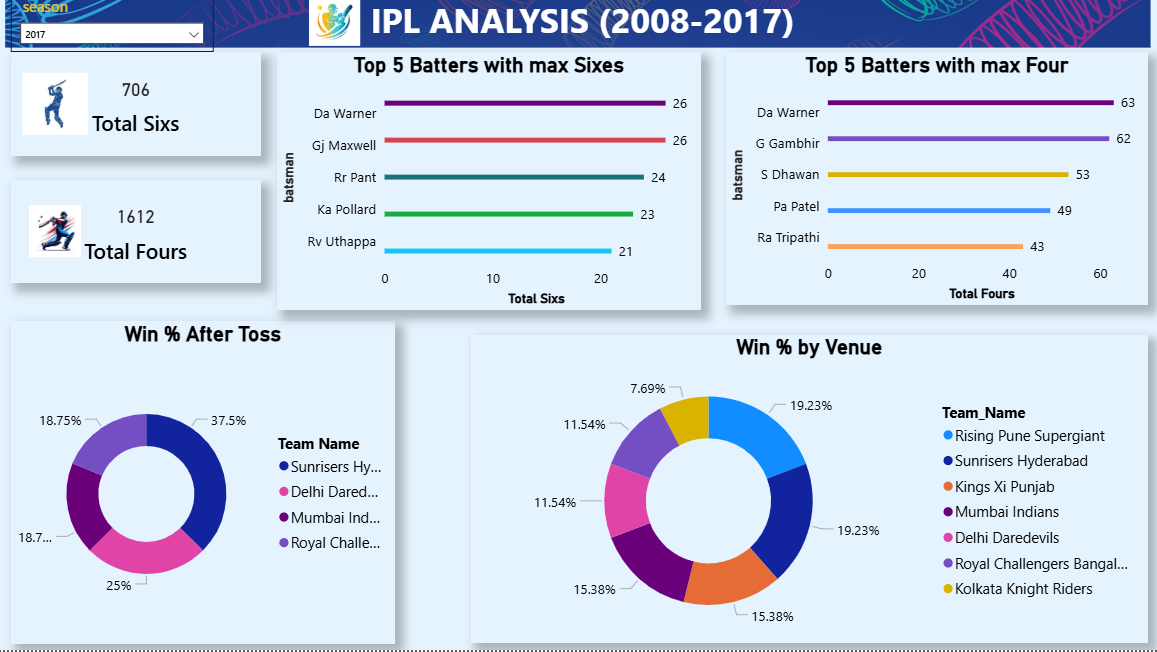

Layout of this report page (visuals, bound fields, positions):
{"tool":"powerbi","page":{"name":"Page 2","canvas":[1280,720],"ordinal":1},"visuals":[{"type":"image","box":[0,0,1280.3,65.9],"z":0},{"type":"donutChart","title":"Win % After Toss","fields":{"Y":["matches.Win % After Toss"],"Category":["Teams.Team_Name"]},"box":[20.6,359.5,419.9,352.7],"z":1000},{"type":"clusteredBarChart","title":"Top 5 Batters with max Sixes","fields":{"Y":["deliveries - deliveries csv.Total Sixs"],"Category":["deliveries - deliveries csv.batsman"],"Series":["deliveries - deliveries csv.batsman"]},"box":[312,66.2,463.2,282.3],"z":2000},{"type":"slicer","fields":{"Values":["Seasons.season"]},"box":[20.5,0,221.4,65.6],"z":3000},{"type":"clusteredBarChart","title":"Top 5 Batters with max Four","fields":{"Category":["deliveries - deliveries csv.batsman"],"Series":["deliveries - deliveries csv.batsman"],"Y":["deliveries - deliveries csv.Total Fours"]},"box":[802.2,66.2,461.9,276.9],"z":4000},{"type":"donutChart","title":"Win % by Venue ","fields":{"Y":["matches.Win % by Venue"],"Category":["Teams.Team_Name"]},"box":[524,374.1,740.1,337.6],"z":5000},{"type":"textbox","box":[273.3,0,744.7,94.3],"z":6000},{"type":"image","box":[336.1,1.4,76.5,62.9],"z":7000},{"type":"card","fields":{"Values":["deliveries - deliveries csv.Total Sixs"]},"box":[20.5,65.6,273.3,113.4],"z":8000},{"type":"image","box":[6.8,83.3,124.3,77.9],"z":9000},{"type":"card","fields":{"Values":["deliveries - deliveries csv.Total Fours"]},"box":[20.5,205,273.3,113.4],"z":10000},{"type":"image","box":[35.5,228.2,67,67],"z":11000}]}

Visuals, with their boxes in screenshot pixels (x1, y1, x2, y2), scaled from the page's 1280x720 canvas onto the 1157x652 screenshot:
image: box(0, 0, 1156, 60)
"Win % After Toss" donutChart: box(19, 326, 398, 645)
"Top 5 Batters with max Sixes" clusteredBarChart: box(282, 60, 701, 316)
slicer - Seasons.season: box(19, 0, 219, 59)
"Top 5 Batters with max Four" clusteredBarChart: box(725, 60, 1143, 311)
"Win % by Venue " donutChart: box(474, 339, 1143, 644)
textbox: box(247, 0, 920, 85)
image: box(304, 1, 373, 58)
card - deliveries - deliveries csv.Total Sixs: box(19, 59, 266, 162)
image: box(6, 75, 119, 146)
card - deliveries - deliveries csv.Total Fours: box(19, 186, 266, 288)
image: box(32, 207, 93, 267)
